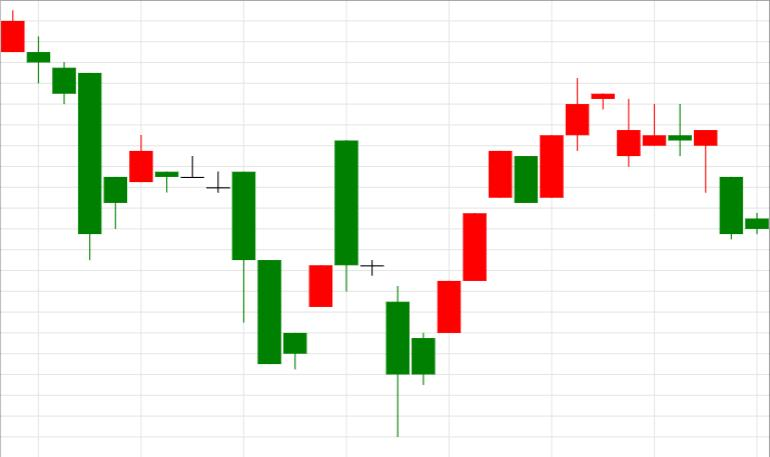three_white_soldiers_rise: (334, 140, 512, 436)
